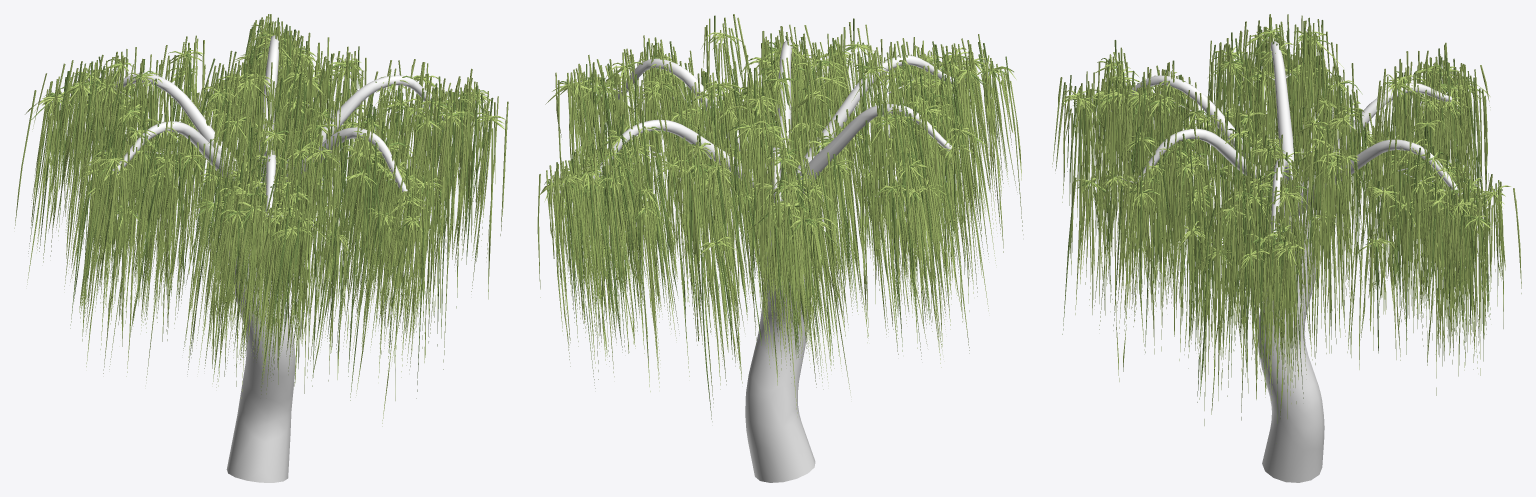
File: willow.glb
3 renders of one model, left to right at view 1: azimuth 30°, elevation 25°; view 2: azimuth 150°, elevation 25°; view 3: azimuth 270°, elevation 25°, orthographic. The views are drawn at different scales.
Visible parts, largest first — view 1: Willow_hair_mid, Willow_hair_lite, Willow_hair_dark, Willow_trunk, Willow_l0t0; view 2: Willow_hair_mid, Willow_hair_lite, Willow_hair_dark, Willow_trunk, Willow_l0t0; view 3: Willow_hair_mid, Willow_hair_lite, Willow_hair_dark, Willow_trunk, Willow_l0t0.
Boxes of the visible parts, left/top/right/bottom form: Willow_hair_mid: left=14, top=14, right=508, bottom=400; Willow_hair_lite: left=25, top=14, right=503, bottom=426; Willow_hair_dark: left=28, top=17, right=493, bottom=400; Willow_trunk: left=226, top=250, right=295, bottom=482; Willow_l0t0: left=102, top=35, right=458, bottom=218; Willow_hair_mid: left=537, top=14, right=1023, bottom=403; Willow_hair_lite: left=538, top=17, right=1021, bottom=413; Willow_hair_dark: left=544, top=15, right=1013, bottom=421; Willow_trunk: left=745, top=231, right=815, bottom=482; Willow_l0t0: left=587, top=39, right=957, bottom=203; Willow_hair_mid: left=1052, top=14, right=1521, bottom=425; Willow_hair_lite: left=1063, top=20, right=1520, bottom=403; Willow_hair_dark: left=1058, top=17, right=1502, bottom=443; Willow_trunk: left=1258, top=210, right=1324, bottom=482; Willow_l0t0: left=1121, top=41, right=1462, bottom=238.
Size of the model in its own units: 8.55 by 8.02 by 8.54.
